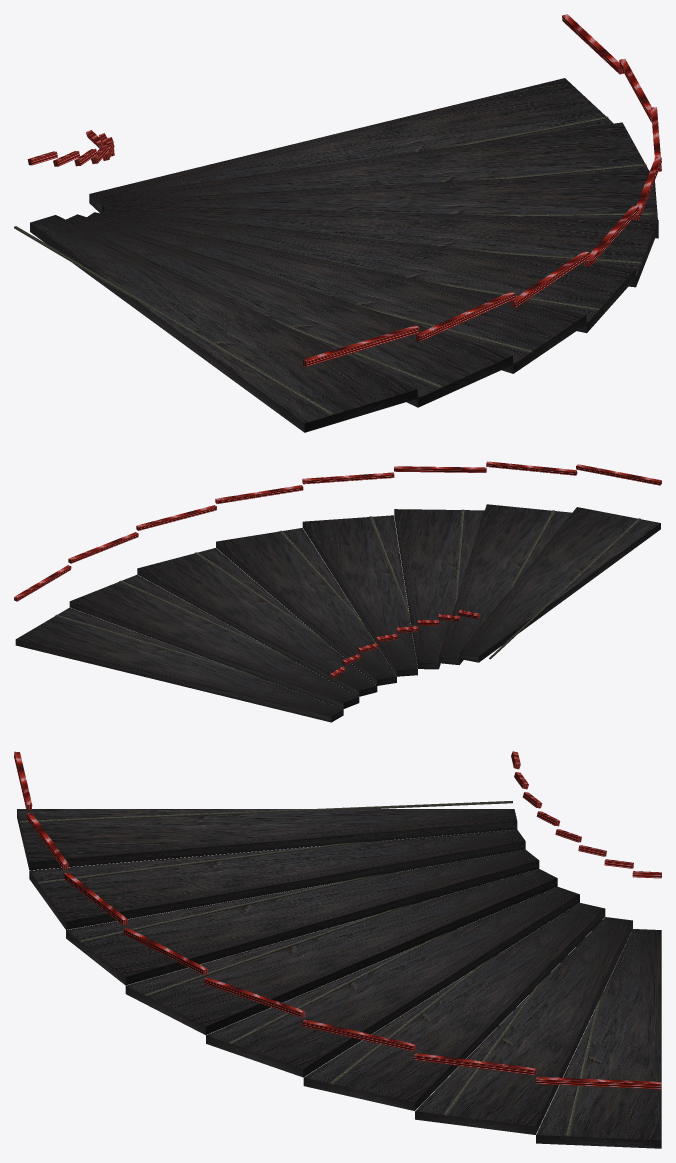
Rendered from nyanisyarud-hyakken-kaidan-corner.glb.
3 views of the same model, one above another, from view 1: azimuth 30°, elevation 25°; view 2: azimuth 150°, elevation 25°; view 3: azimuth 270°, elevation 25° (orthographic). The views are drawn at different scales.
Visible parts, largest first — view 1: step_7, step_6, step_5, step_4, step_0, step_1, step_3, step_2, nosing_7, hr_outer_7, hr_outer_6, hr_outer_5 (+2 smaller); view 2: step_0, step_1, step_2, step_7, step_3, step_4, step_5, step_6, hr_outer_4, hr_outer_5, hr_outer_6, nosing_7 (+8 smaller); view 3: step_6, step_7, step_5, step_4, step_3, step_2, step_1, step_0, nosing_7, hr_outer_0, hr_outer_1, hr_outer_2 (+9 smaller).
Boxes of the visible parts, x1,y1,x2,y2 form: step_7: (30, 215, 417, 432); step_6: (66, 214, 512, 407); step_5: (87, 212, 586, 373); step_4: (101, 209, 635, 333); step_0: (89, 78, 613, 213); step_1: (102, 122, 648, 209); step_3: (109, 205, 658, 287); step_2: (109, 170, 658, 238); nosing_7: (14, 226, 334, 415); hr_outer_7: (302, 325, 419, 366); hr_outer_6: (415, 291, 515, 341); hr_outer_5: (510, 251, 589, 307); step_0: (15, 607, 343, 722); step_1: (69, 575, 359, 708); step_2: (137, 548, 377, 696); step_7: (459, 507, 660, 662); step_3: (216, 528, 396, 685); step_4: (302, 515, 417, 676); step_5: (394, 509, 484, 669); step_6: (439, 504, 571, 665); hr_outer_4: (302, 472, 394, 484); hr_outer_5: (394, 466, 486, 472); hr_outer_6: (486, 461, 577, 475); nosing_7: (489, 518, 640, 659); step_6: (29, 829, 525, 929); step_7: (17, 809, 517, 870); step_5: (66, 849, 539, 985); step_4: (125, 869, 557, 1035); step_3: (206, 886, 579, 1077); step_2: (303, 903, 605, 1110); step_1: (415, 917, 632, 1134); step_0: (536, 929, 661, 1148); nosing_7: (20, 801, 512, 823); hr_outer_0: (535, 1077, 661, 1089); hr_outer_1: (414, 1053, 536, 1075); hr_outer_2: (302, 1019, 415, 1051).
Bounding box in the file's own units: 10.75 × 2.23 × 10.47.
Materials: 3 (3 with a texture image).
